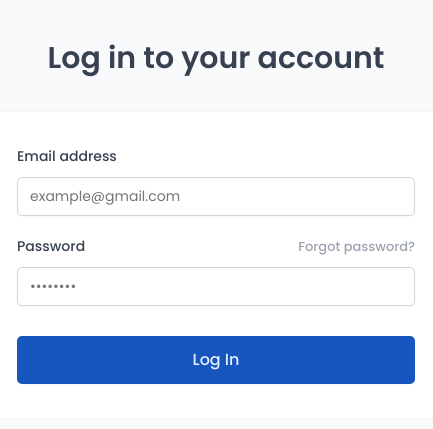
Test: Login Logic and Forgot Password Flow › validating the login form without any data
Click the button "Log In". click: (216, 360)
box: [17, 336, 415, 384]
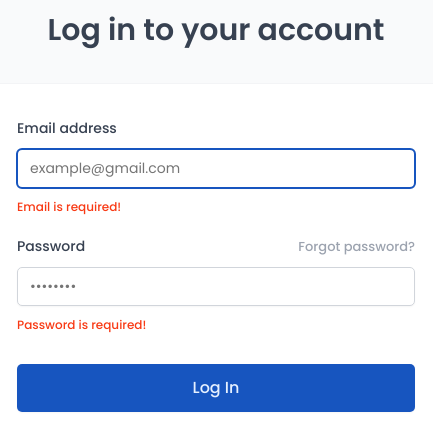
Expected: the text "Forgot password?" is shown, [298, 237, 415, 256]
Result: the text "Email is required!" is shown at [17, 198, 121, 215]
Result: the text "Password is required!" is shown at [17, 316, 146, 333]
